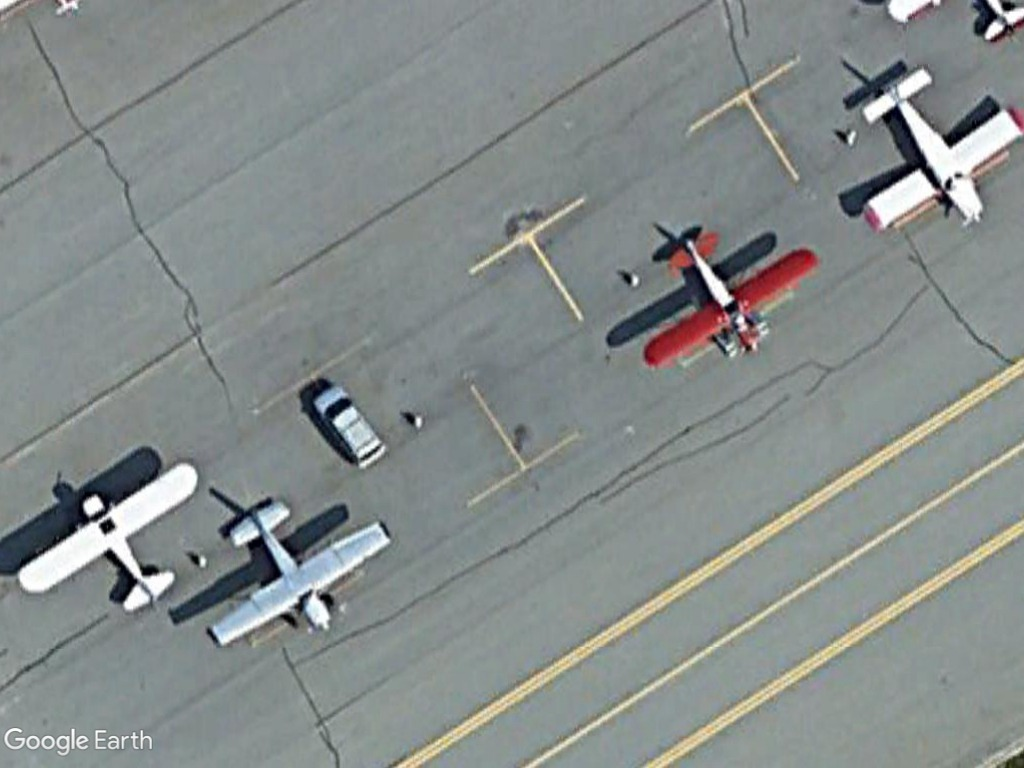car: (310, 381, 387, 471)
trainer: (203, 484, 397, 652), (13, 456, 212, 617), (848, 68, 1024, 247), (630, 226, 821, 383)
